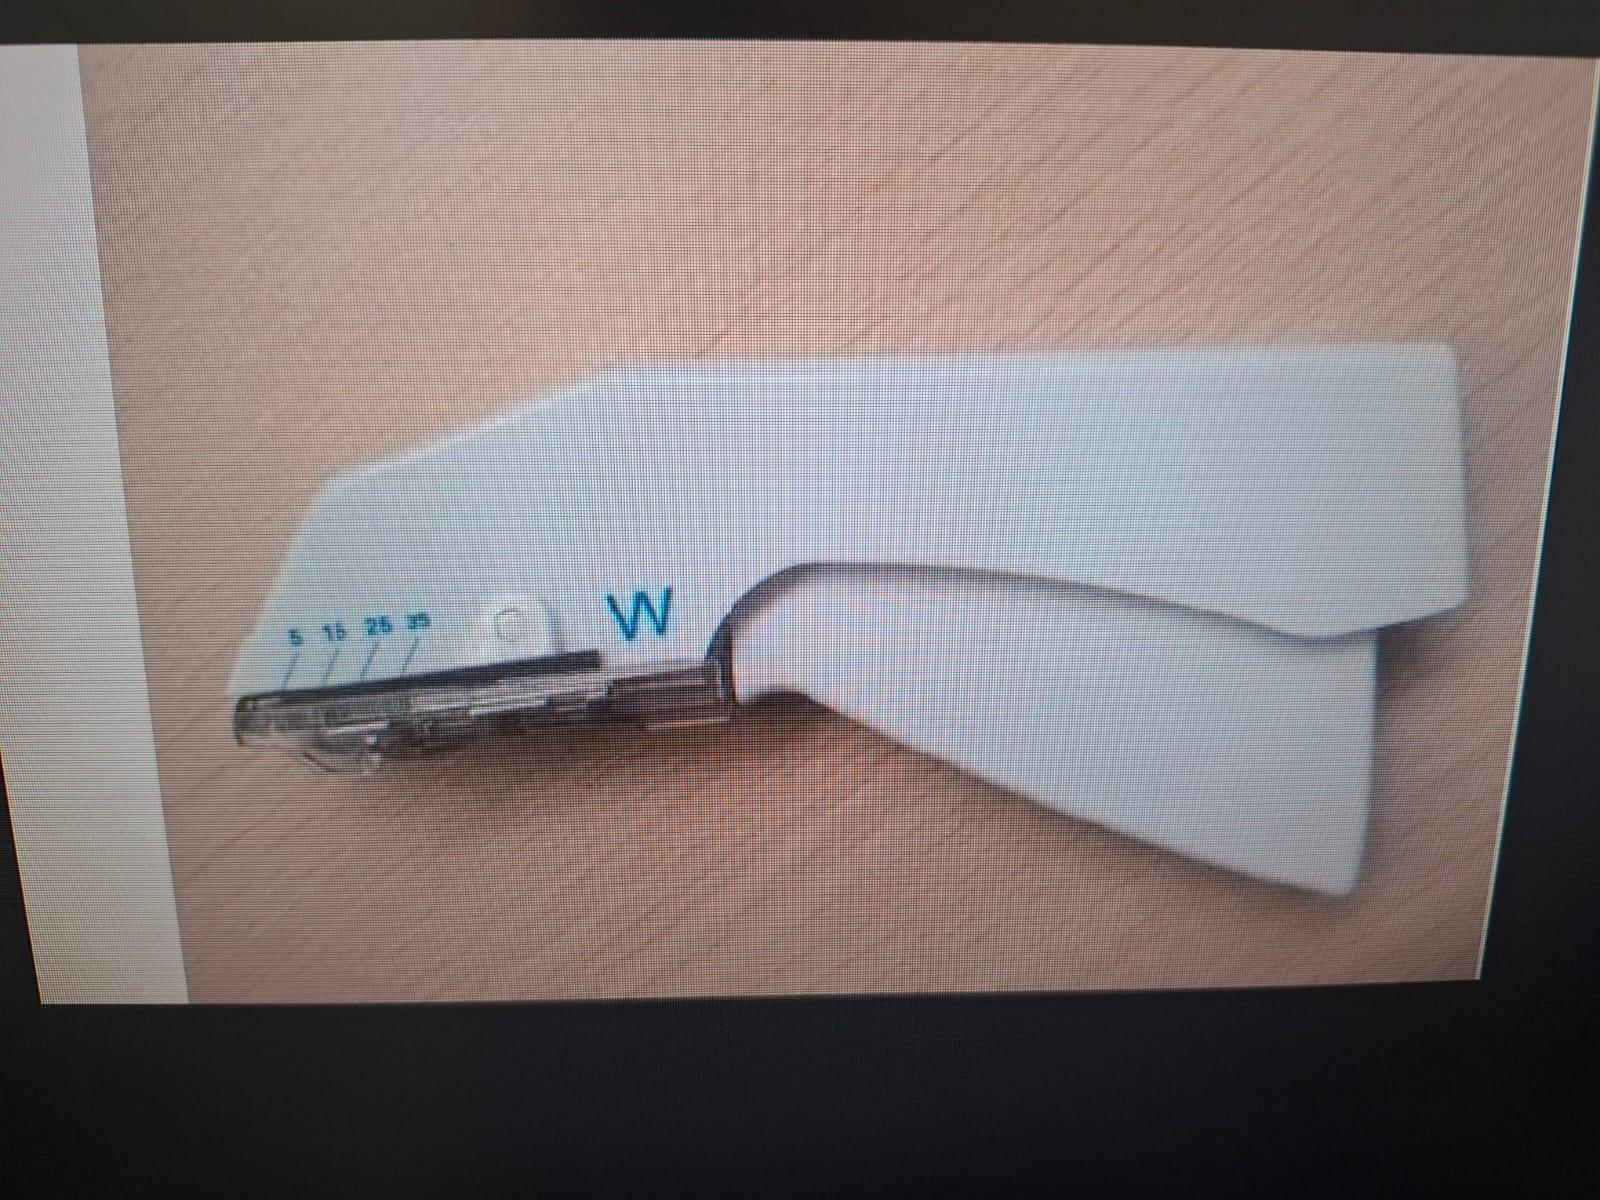Skin Stapler: (191, 320, 1487, 906)
